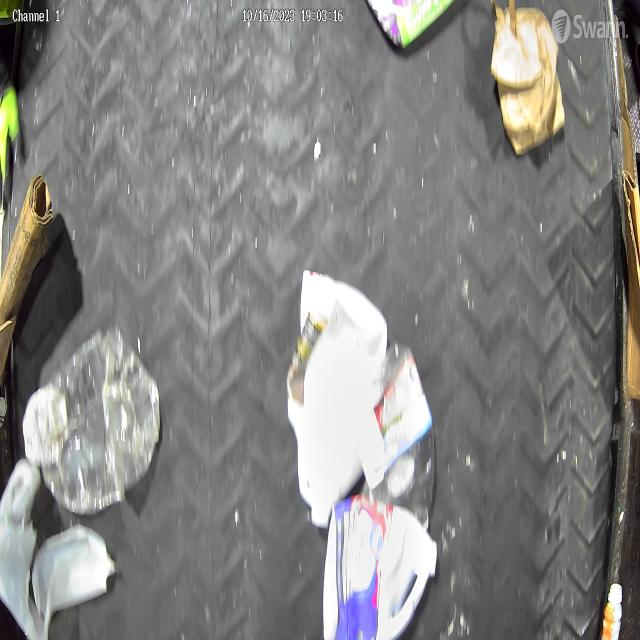milk_jug: (285, 267, 389, 531)
non_white_jug: (320, 494, 439, 640)
plastic_bottle: (23, 329, 162, 518), (360, 339, 437, 536)
